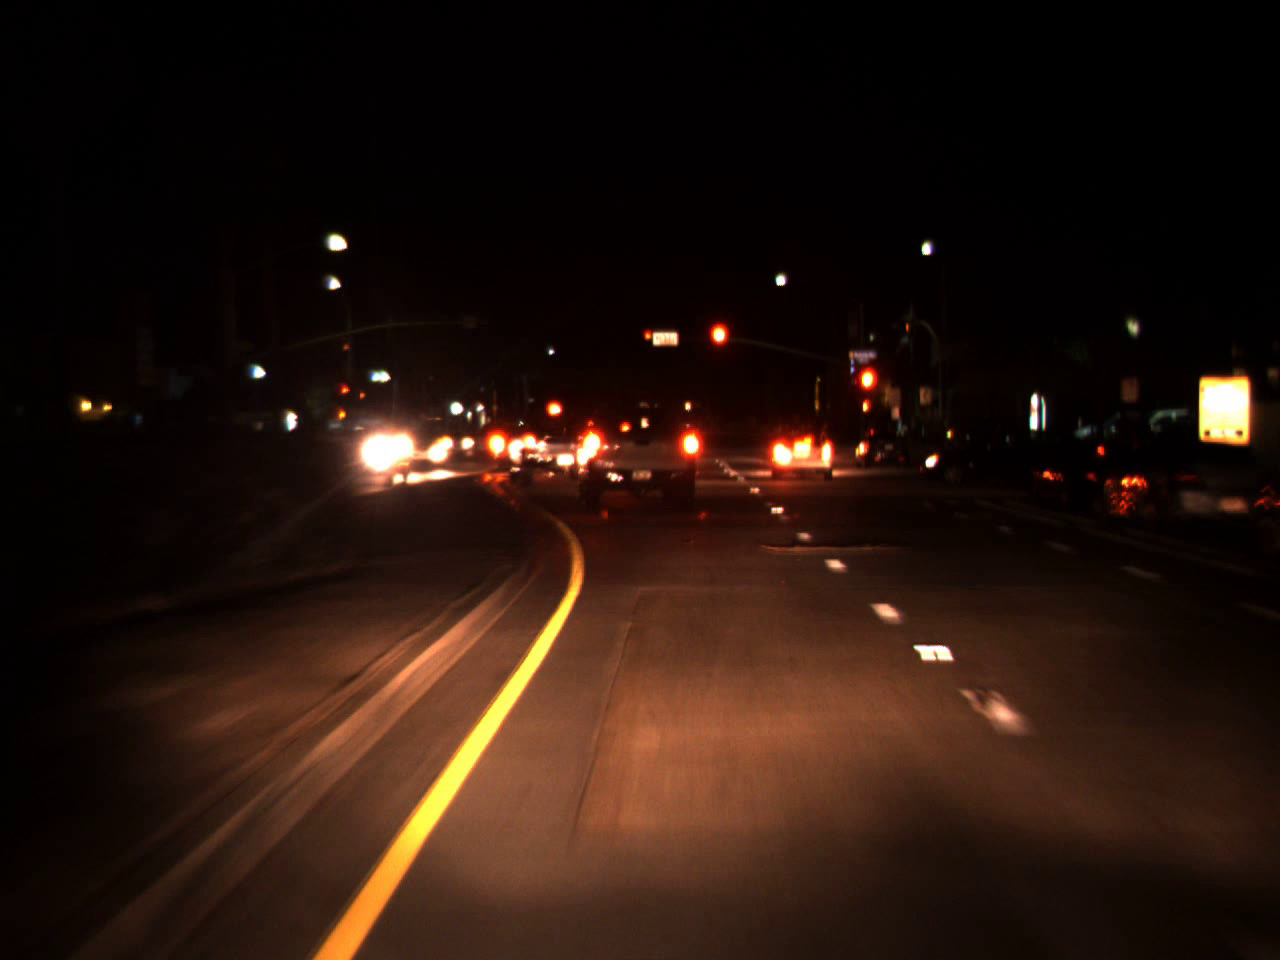stop: (854, 362, 881, 421), (706, 319, 731, 373), (340, 384, 352, 405), (643, 330, 653, 348)
